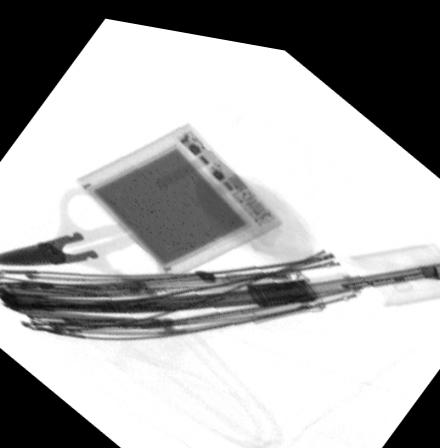Powerbank: (70, 114, 283, 270)
Scissors: (0, 180, 171, 288)
